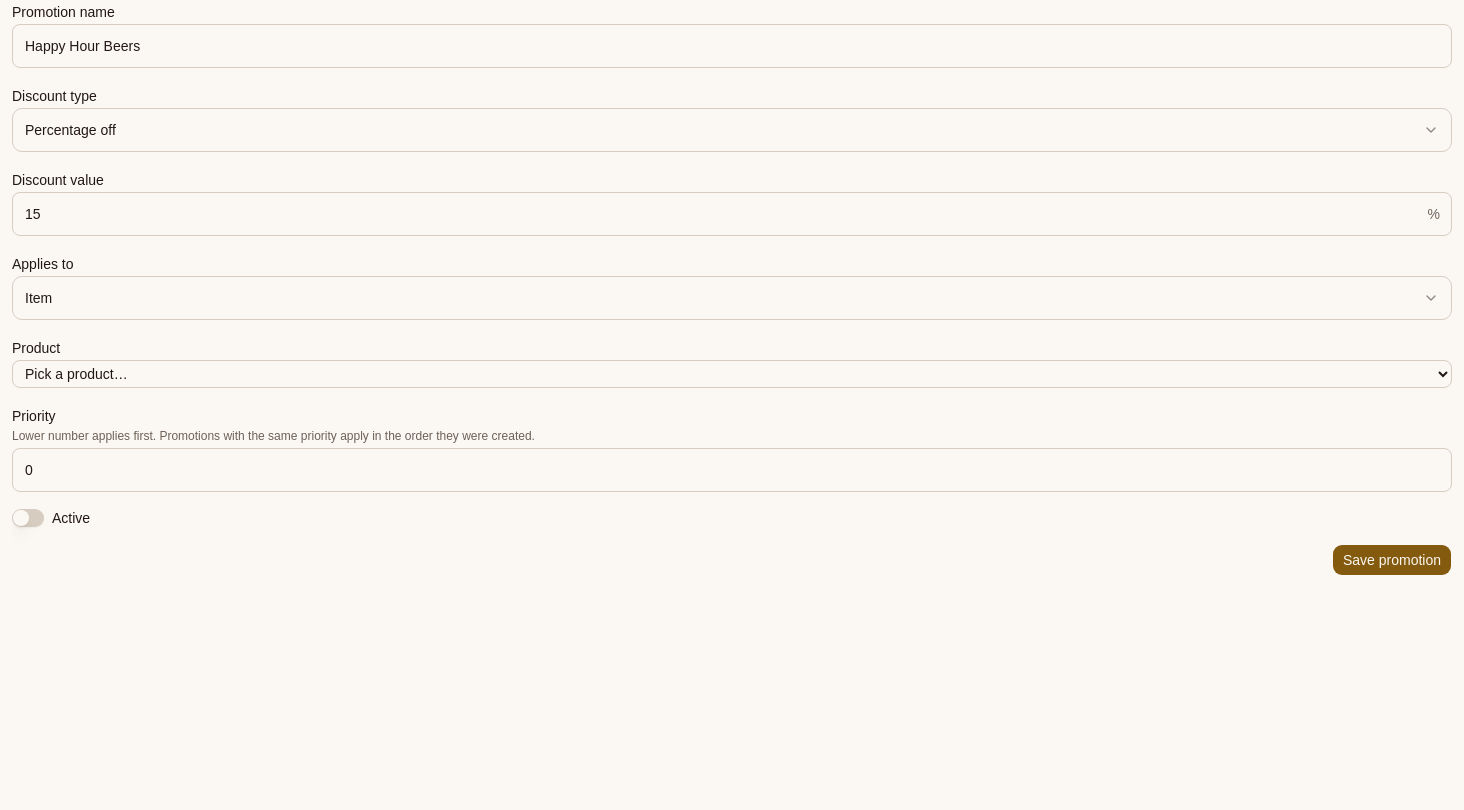
it: PromotionBuilderForm › fixed-price stacking hint appears only for fixed_price
The image size is (1464, 810).
Click the dropdown named "Discount type".
click(70, 130)  # box [12,108,1452,152]
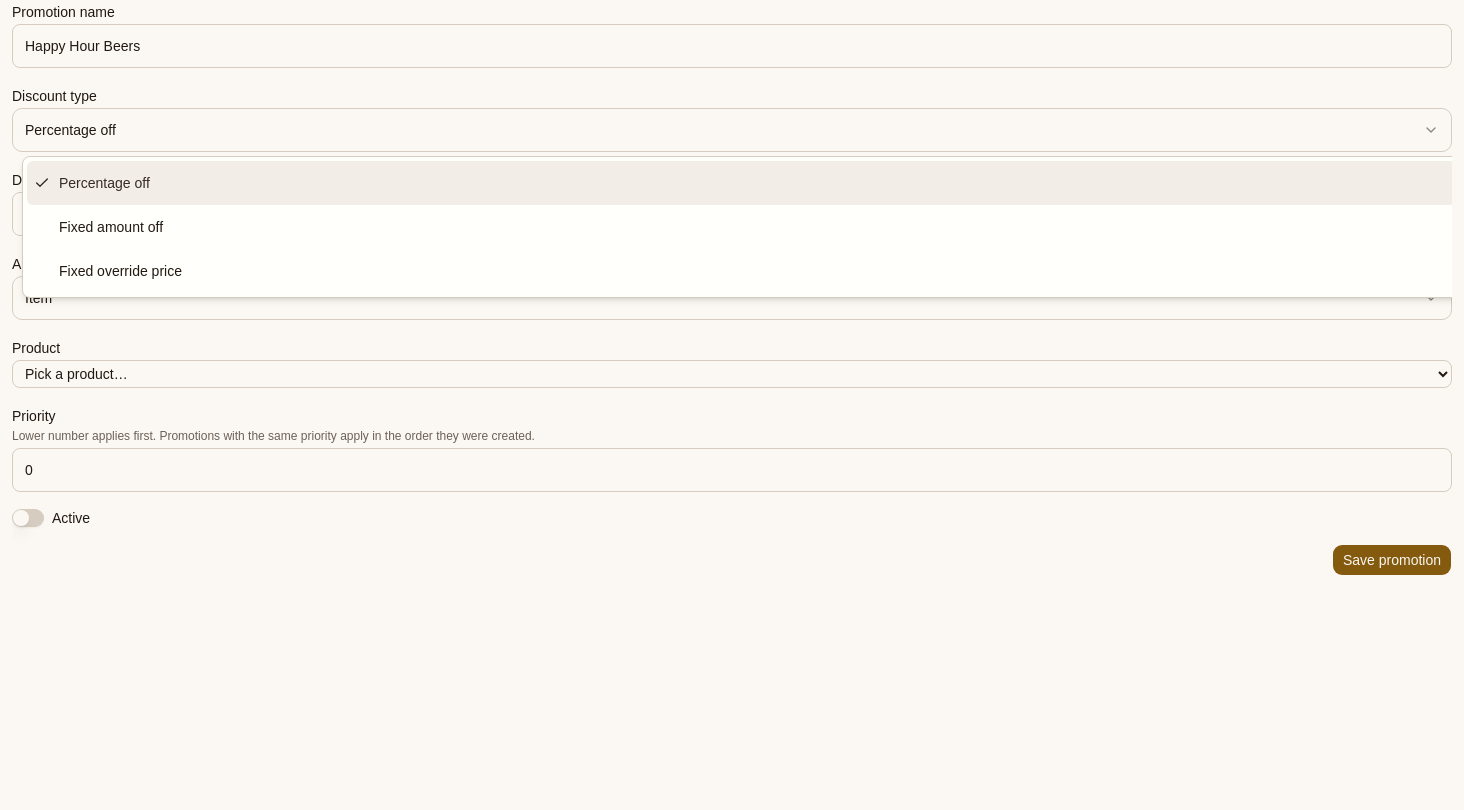
Click the option "Fixed override price".
click(120, 271)  # box [59,263,182,279]
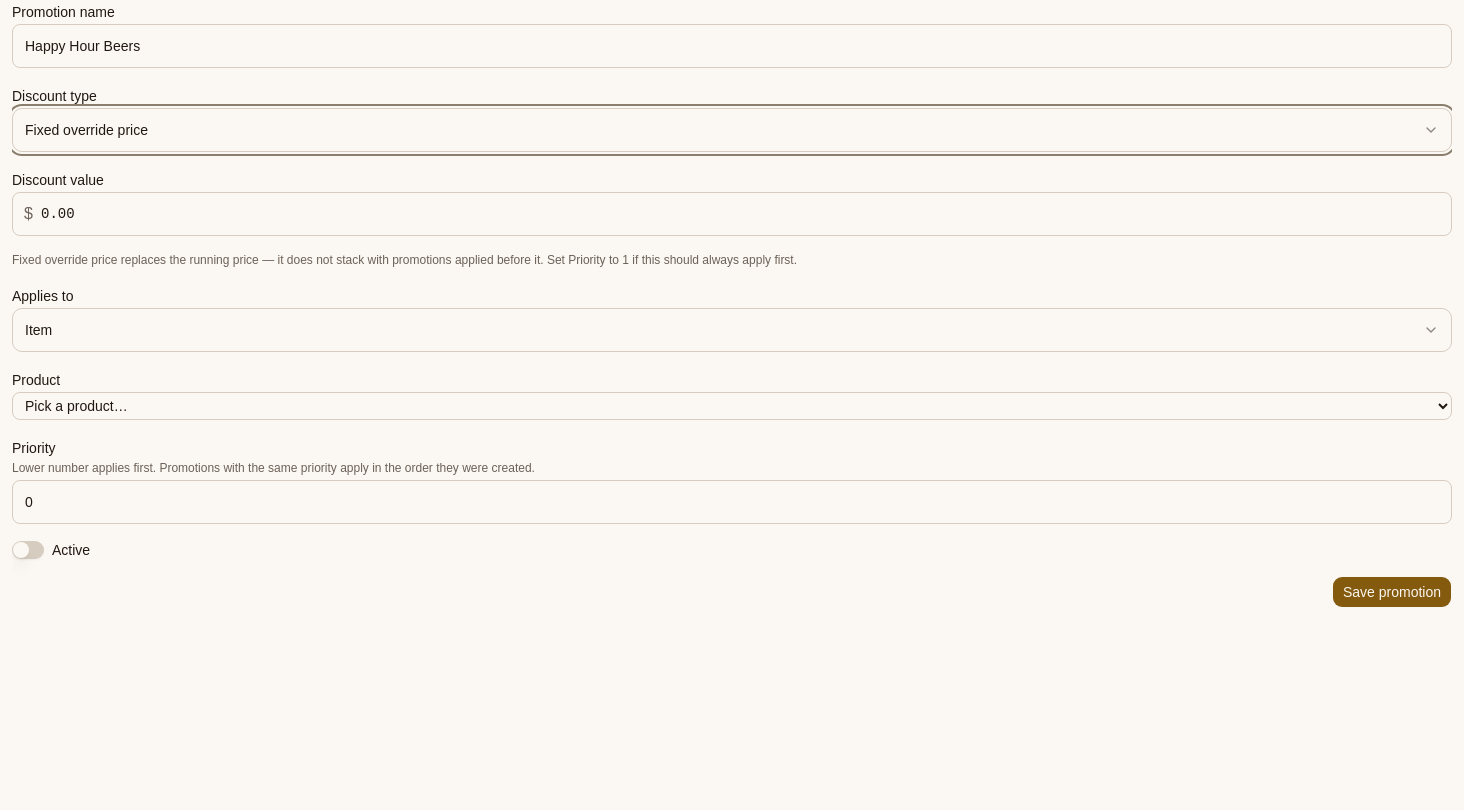
Expected: the text "does not stack with promotions" is shown, [12,253,797,267]
Click the dropdown named "Discount type".
click(86, 130)  # box [12,108,1452,152]
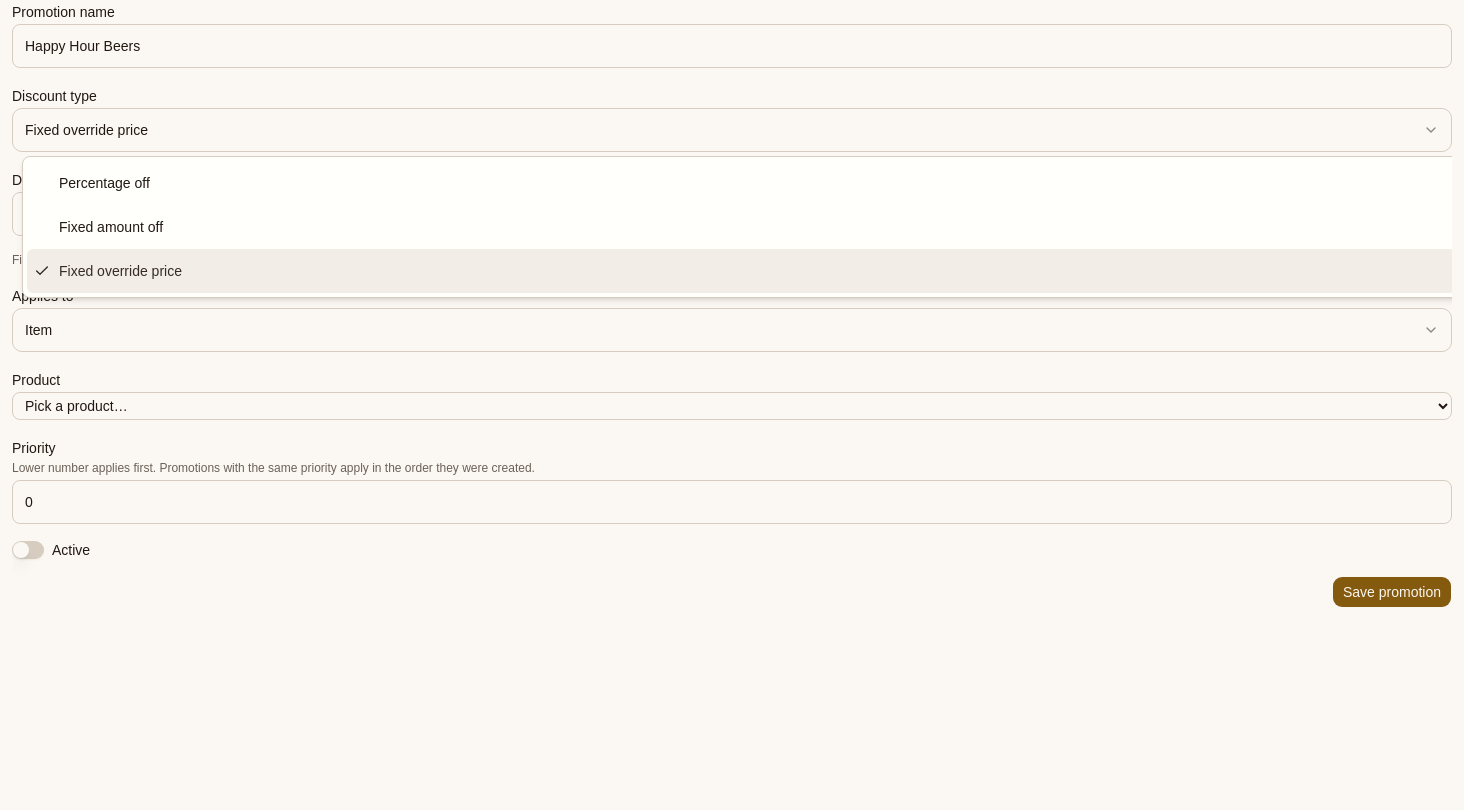
Click the option "Percentage off".
click(104, 183)  # box [59,175,150,191]
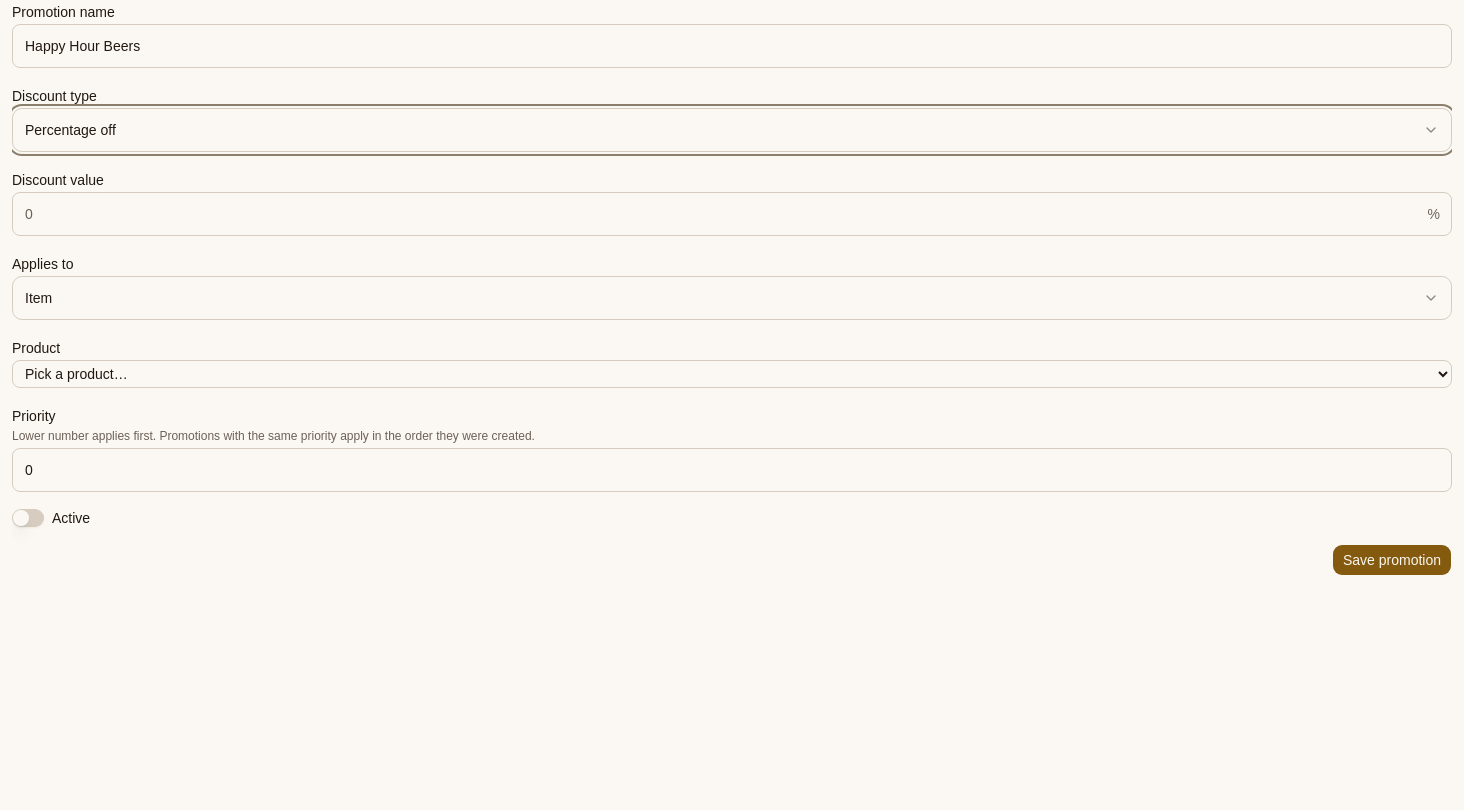
Expected: the text "does not stack with promotions" is gone
